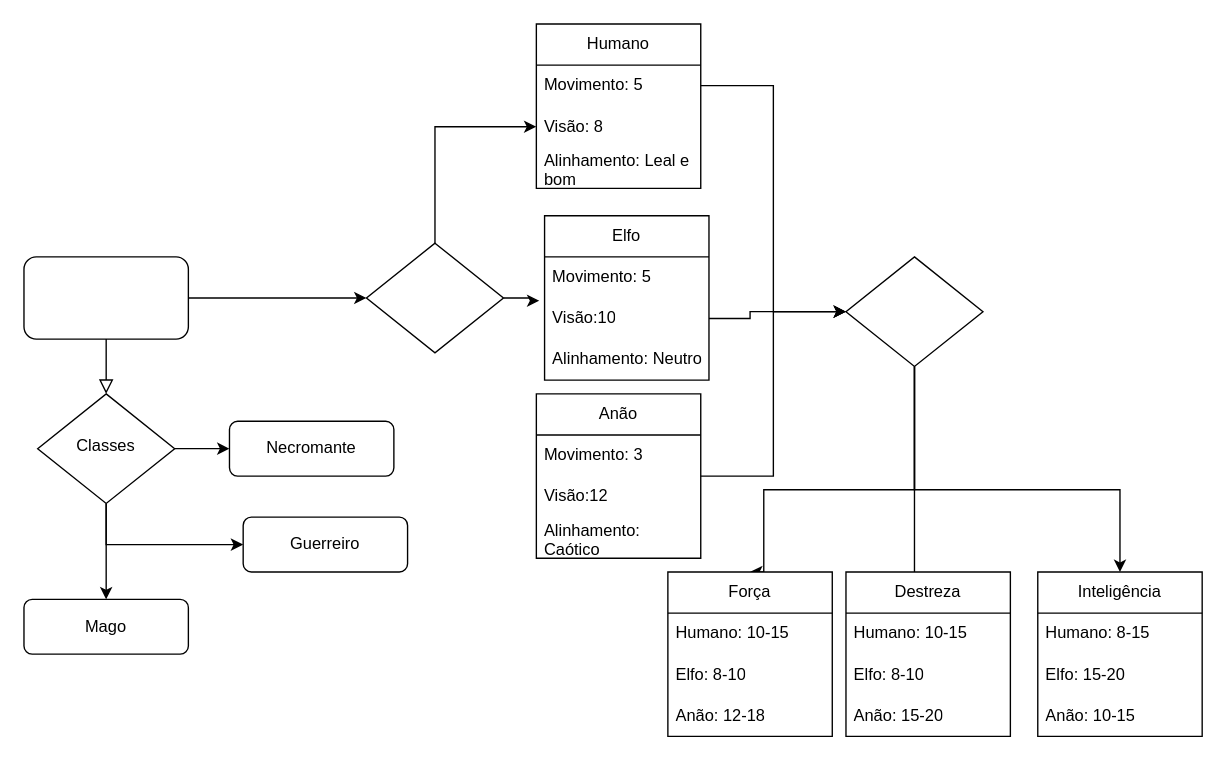
Image size: 1226x760. Some labels were removed from this diagram. Here are the shapes that lost their labels. From the top down, the centre of each, then its label:
the point at 105,297: Personagem
the point at 434,297: Raças
the point at 914,311: Atributos
